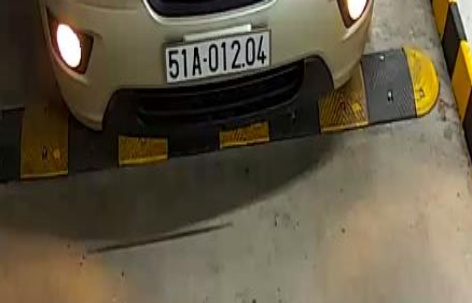plate: (156, 28, 275, 86)
